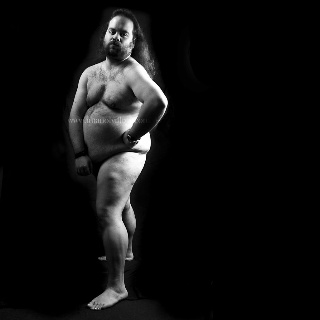without_mask: (103, 15, 133, 60)
